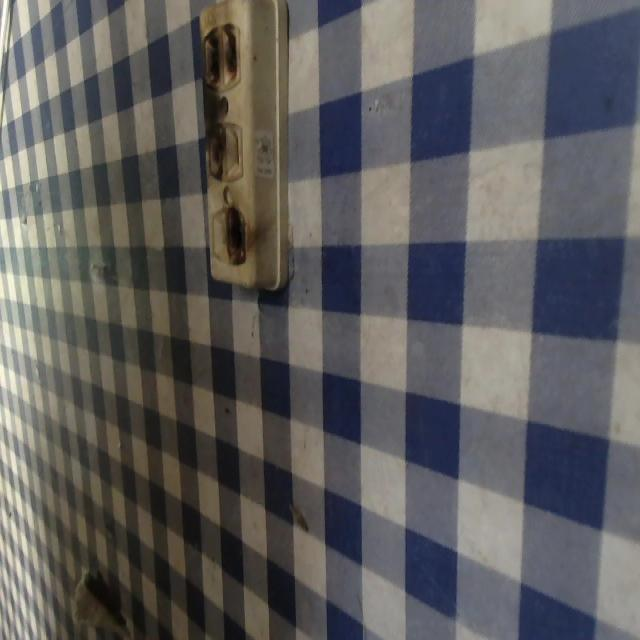-: (199, 19, 242, 89), (224, 202, 252, 270), (201, 120, 227, 180)
